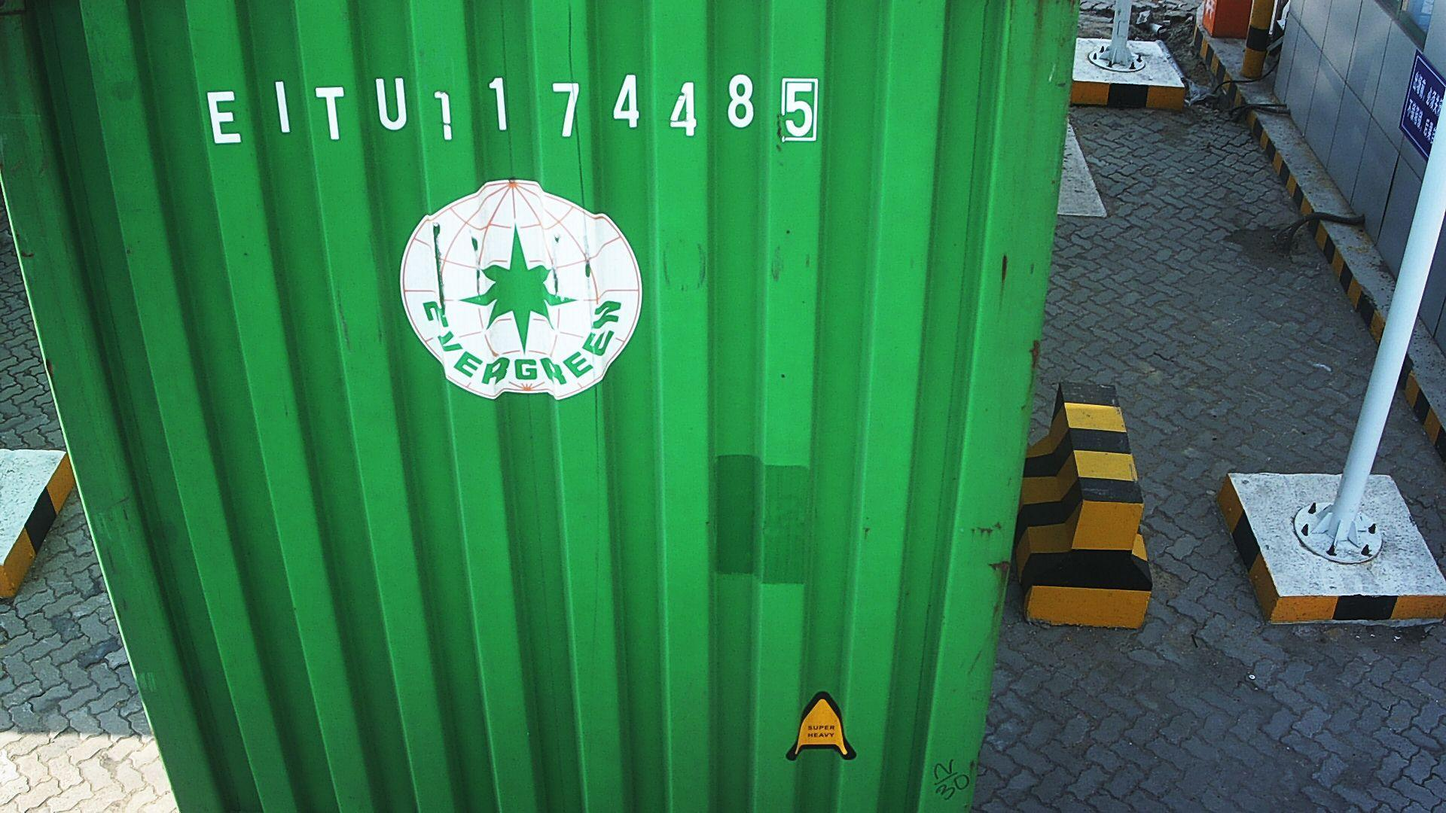container-numbers: (199, 69, 825, 154)
